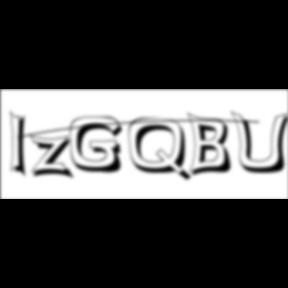B: (188, 111, 238, 179)
G: (70, 116, 130, 176)
Q: (129, 117, 195, 184)
l: (11, 108, 34, 182)
z: (30, 134, 78, 182)
